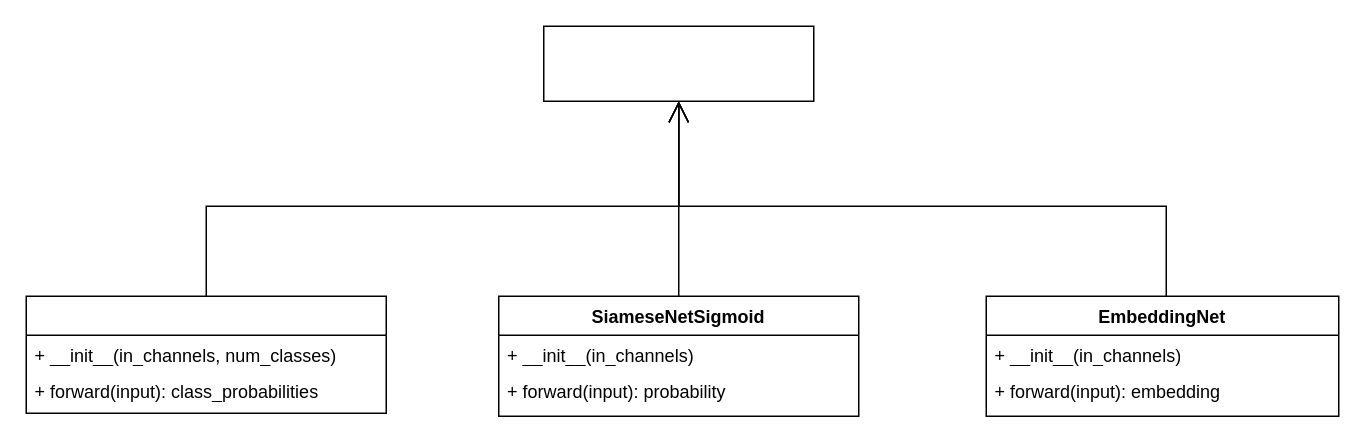
This 1365x447 diagram has some shape labels left out. Each missing label, with the box of its shape:
ConvolutionalNet: (25, 295, 386, 413)
torch.nn.Module: (542, 25, 814, 101)
